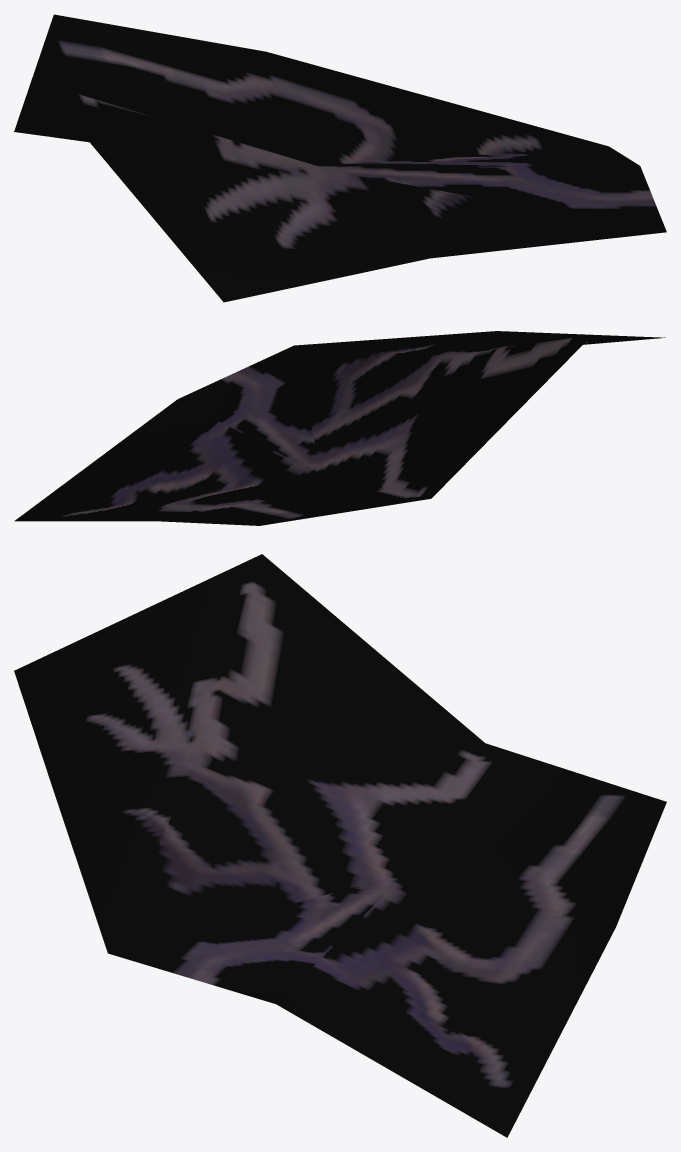
File: yw_shanlin_treebranch_023.FBX
3 views of the same model, one above another, from view 1: azimuth 30°, elevation 25°; view 2: azimuth 150°, elevation 25°; view 3: azimuth 270°, elevation 25° (orthographic). The views are drawn at different scales.
Visible parts, largest first — view 1: yw_shanlin_treebranch_023; view 2: yw_shanlin_treebranch_023; view 3: yw_shanlin_treebranch_023.
Boxes of the visible parts, x1,y1,x2,y2 form: yw_shanlin_treebranch_023: (14, 14, 666, 302); yw_shanlin_treebranch_023: (14, 331, 665, 525); yw_shanlin_treebranch_023: (14, 554, 666, 1137).
Bounding box in the file's own units: 207 × 95.38 × 194.
